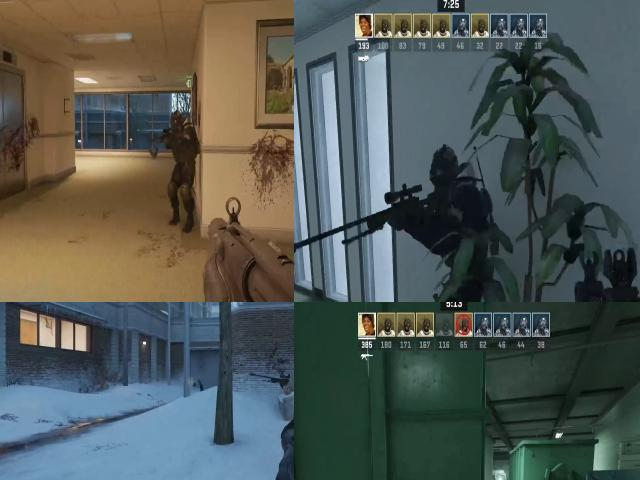CT: (418, 131, 489, 302), (168, 107, 202, 169)
CT-Head: (422, 139, 463, 207), (168, 112, 192, 144)
T: (285, 353, 294, 424)
